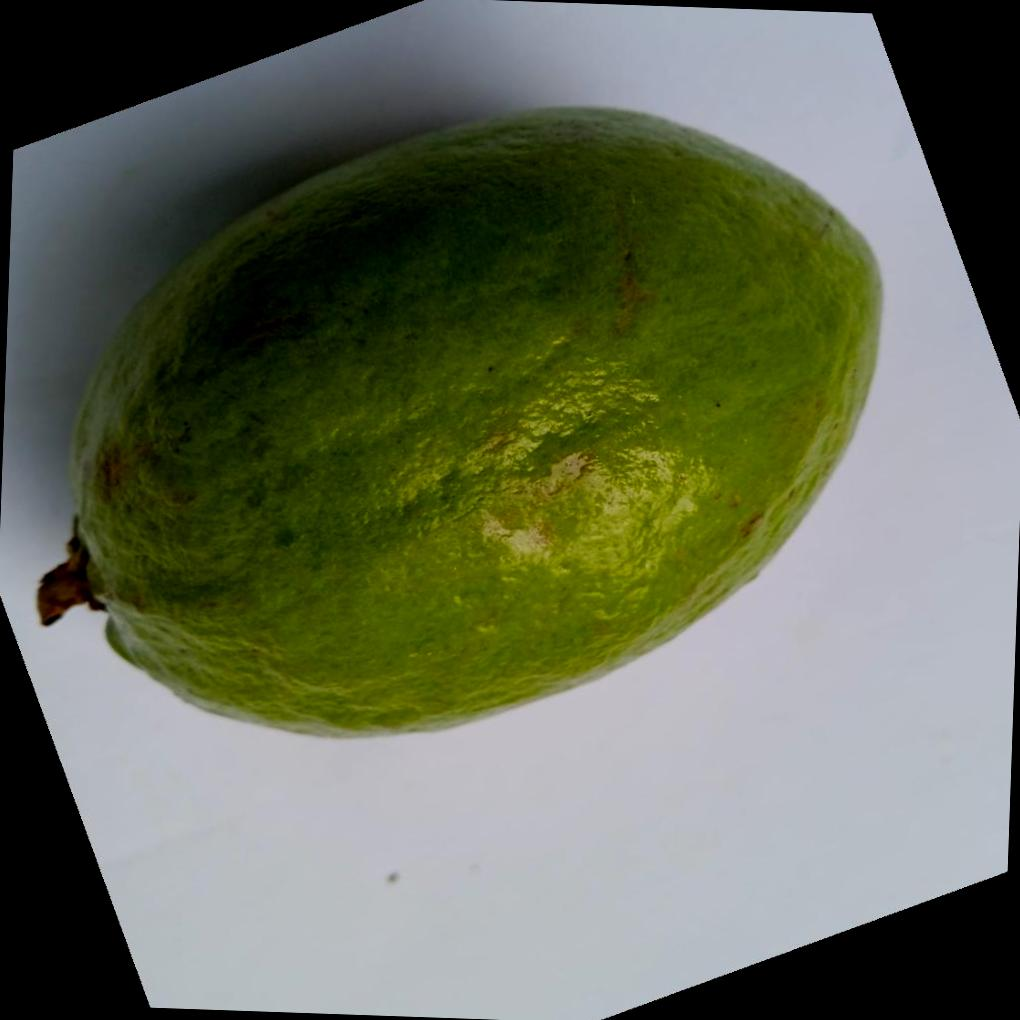FreshGuava: (62, 102, 886, 738)
